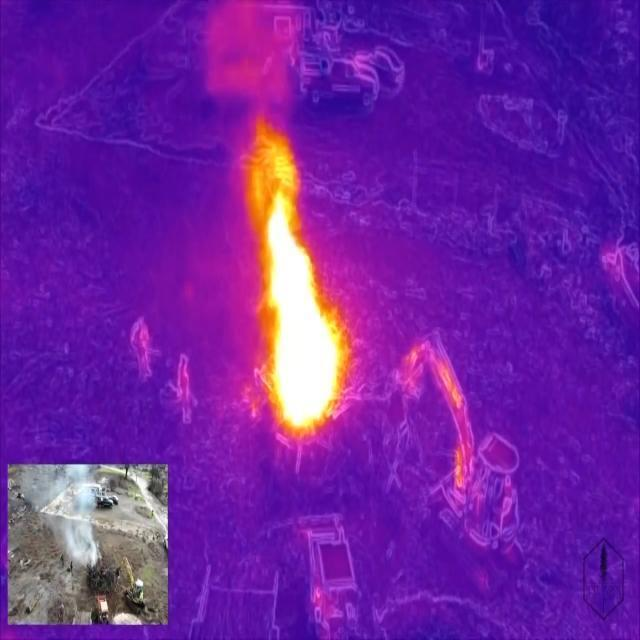fire: (255, 126, 350, 438)
